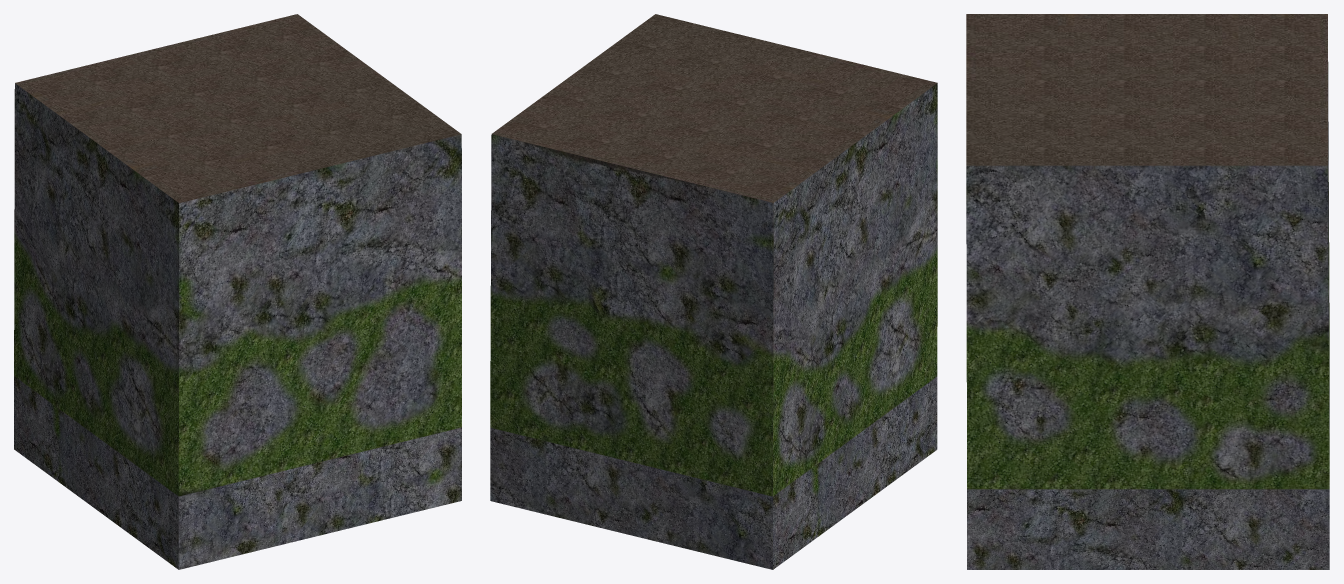
File: StoneMossWall.glb
3 views of the same model, side by side, from view 1: azimuth 30°, elevation 25°; view 2: azimuth 150°, elevation 25°; view 3: azimuth 270°, elevation 25° (orthographic). The views are drawn at different scales.
Visible parts, largest first — view 1: Cube; view 2: Cube; view 3: Cube.
Part boxes in pixels (left/top/right/bottom): Cube: left=14, top=14, right=461, bottom=569; Cube: left=490, top=14, right=937, bottom=569; Cube: left=966, top=14, right=1329, bottom=569.
Bounding box in the file's own units: 2.01 × 2.49 × 2.03.
1 material, 1 textured.
